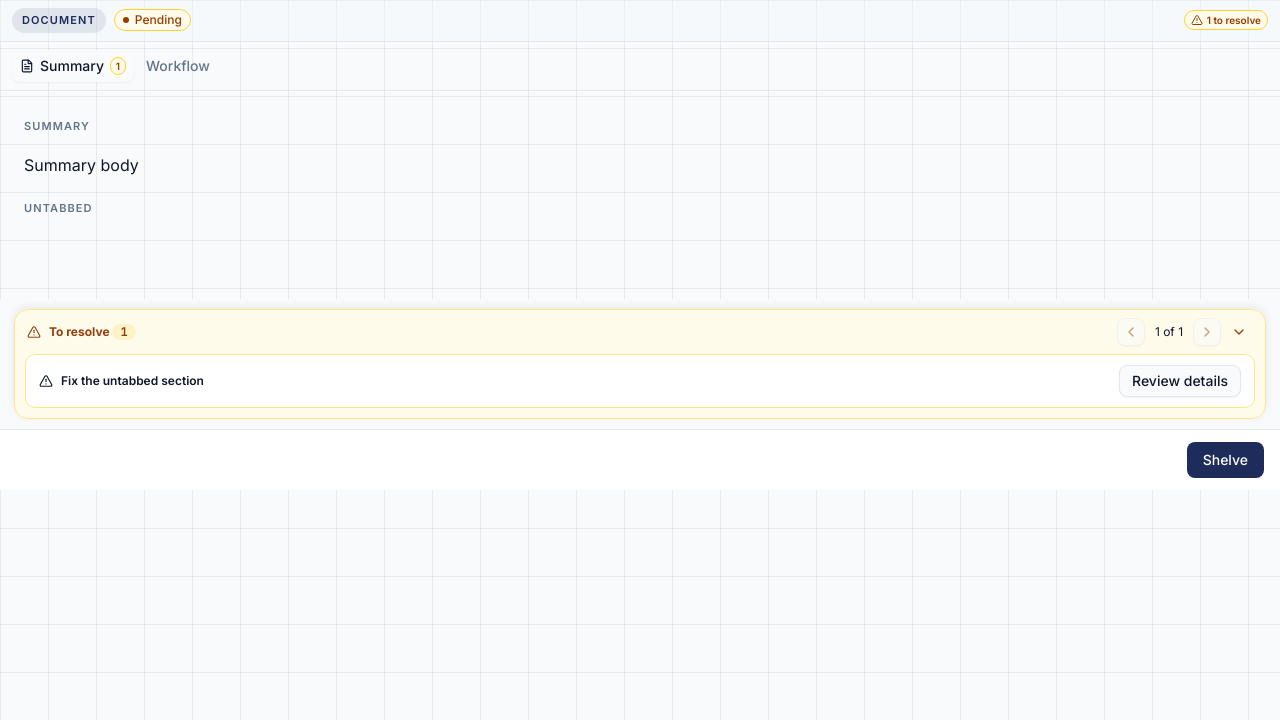
DocumentPanelRenderer › Review details › FIX67-1 switches to the first tab for a target section that has no tabId (where sectionsByTab renders it)
This screenshot has width=1280, height=720.
Click the tab "Workflow" at (178, 66), box [138, 50, 218, 82]
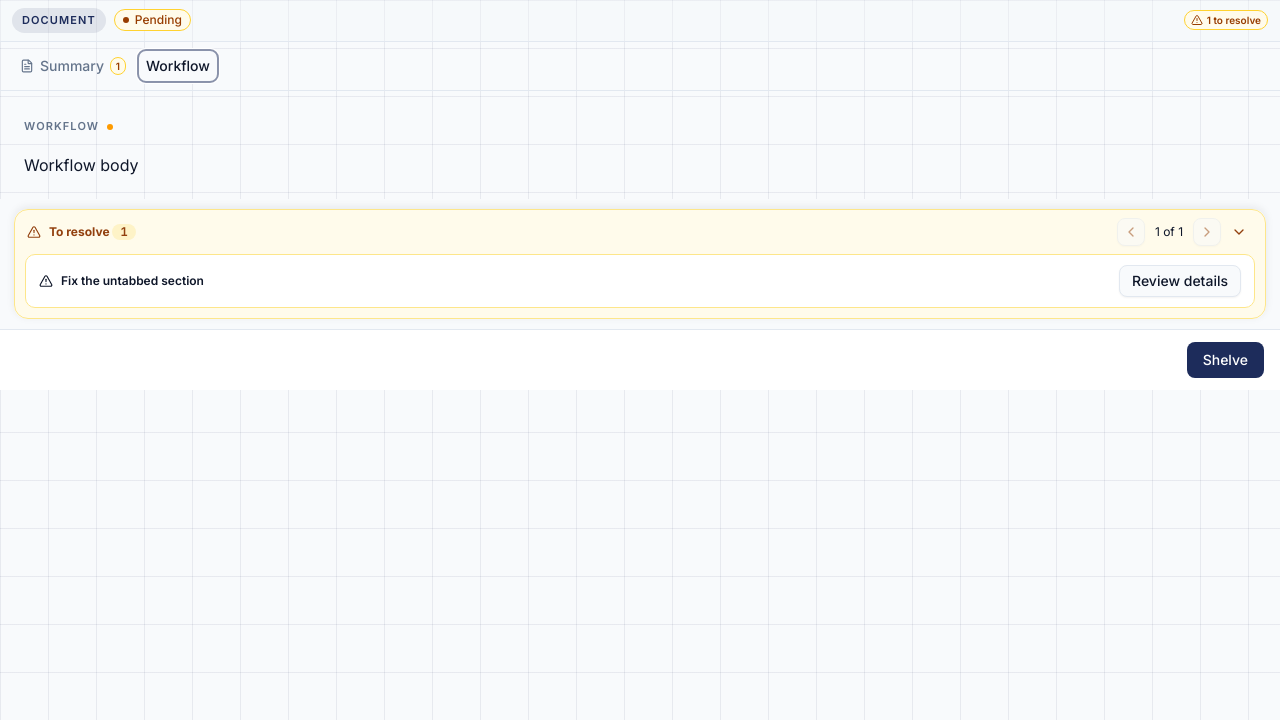
Click the button "Review details" at (1180, 280), box [1119, 264, 1241, 296]
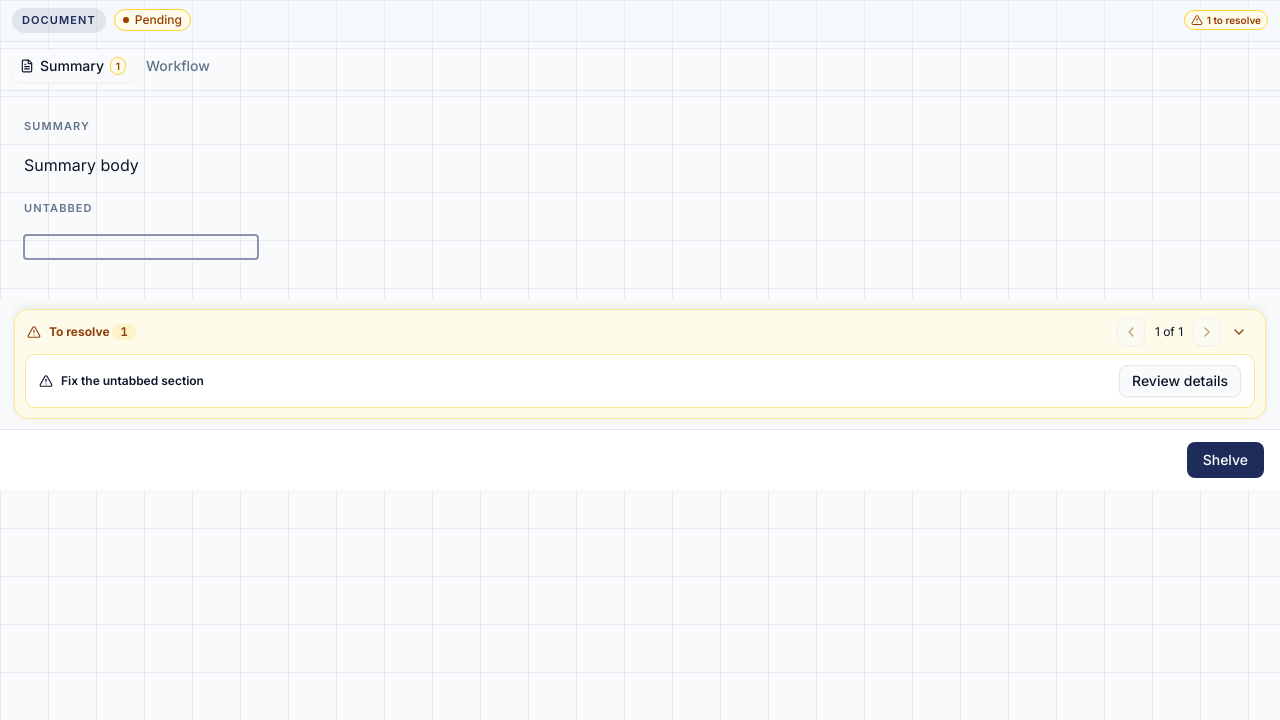
Expected: the field named "Untabbed field" is shown, [24, 234, 258, 258]
